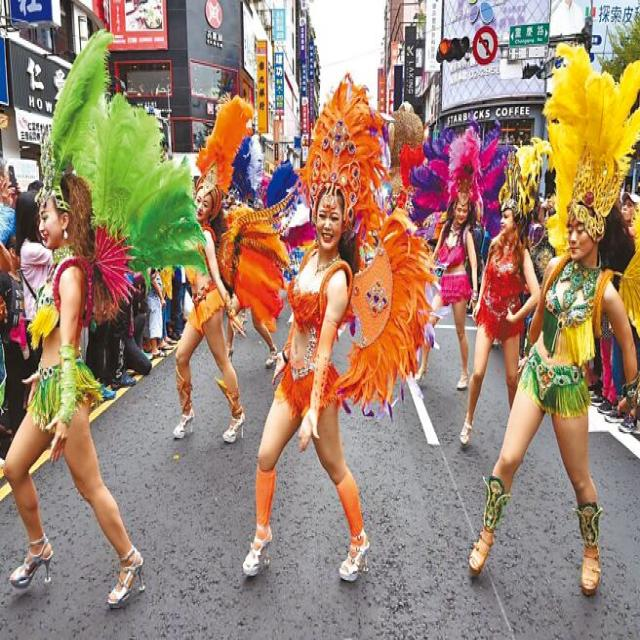stand: (464, 204, 638, 595), (268, 172, 371, 600), (9, 172, 106, 608), (453, 199, 542, 431), (179, 158, 246, 444), (438, 172, 477, 394)
